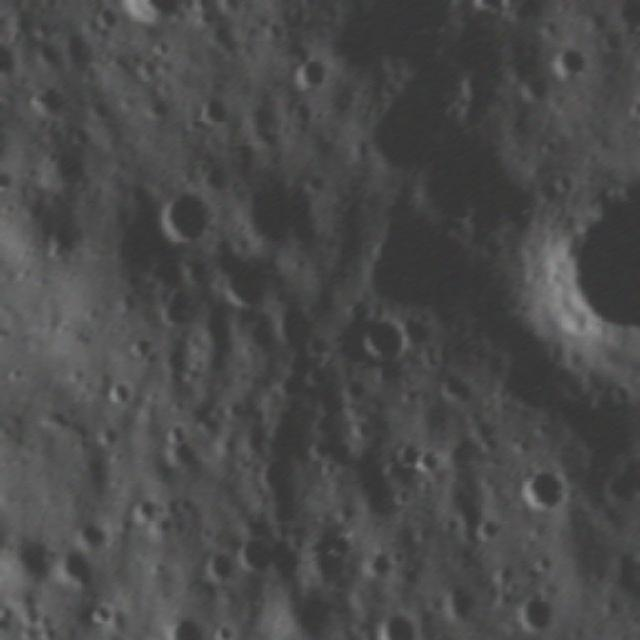crater: (527, 172, 640, 367), (235, 187, 310, 245), (151, 184, 215, 248), (205, 253, 273, 310), (0, 537, 51, 592), (518, 463, 572, 514), (54, 551, 106, 594), (360, 317, 406, 365), (234, 530, 280, 578), (306, 434, 351, 478), (521, 588, 557, 638), (275, 305, 313, 350), (554, 38, 591, 79), (160, 609, 208, 640), (434, 369, 471, 409), (288, 52, 328, 88), (257, 458, 297, 494), (196, 91, 233, 129), (38, 224, 74, 261), (0, 30, 22, 90), (104, 377, 144, 409), (380, 611, 422, 640), (468, 0, 528, 20), (91, 0, 123, 37), (78, 517, 114, 549), (30, 83, 67, 112), (140, 93, 174, 121), (472, 510, 500, 544), (450, 582, 475, 620), (162, 416, 190, 449), (286, 99, 320, 126), (203, 551, 234, 580), (95, 420, 126, 449), (81, 95, 114, 122), (368, 542, 392, 578), (126, 332, 154, 362), (132, 496, 162, 524), (62, 123, 92, 149), (4, 23, 34, 46), (211, 0, 251, 17), (391, 444, 417, 468), (90, 600, 112, 628), (278, 372, 300, 399), (418, 443, 437, 474), (192, 154, 216, 177), (6, 363, 31, 383), (476, 431, 498, 451), (626, 91, 640, 122), (214, 621, 236, 640), (0, 163, 14, 189)
